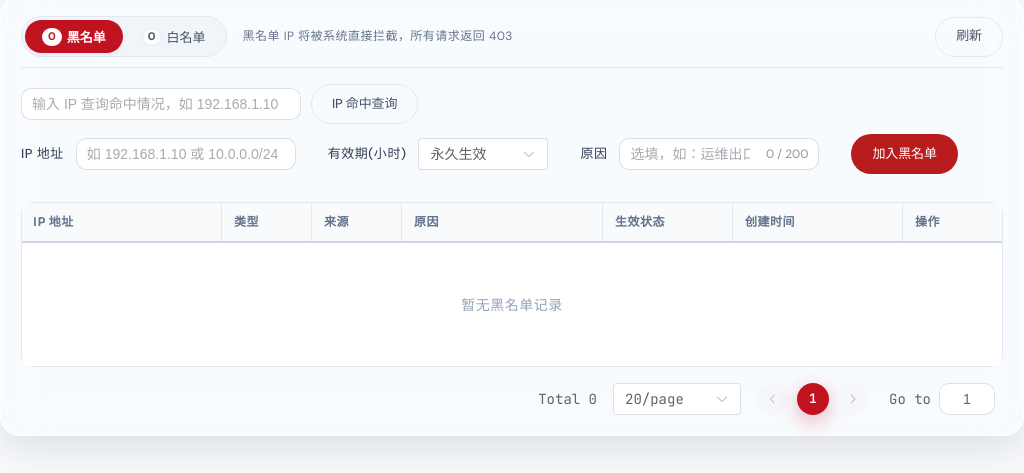
IpListView IP 命中查询 › 合法 IP 查询：参数为输入 IP，命中黑名单时展示判定标签与模式标签
Type "10.0.0.5" into the field with placeholder "输入 IP 查询命中情况，如 192.168.1.10" at (161, 104), box [32,89,290,119]
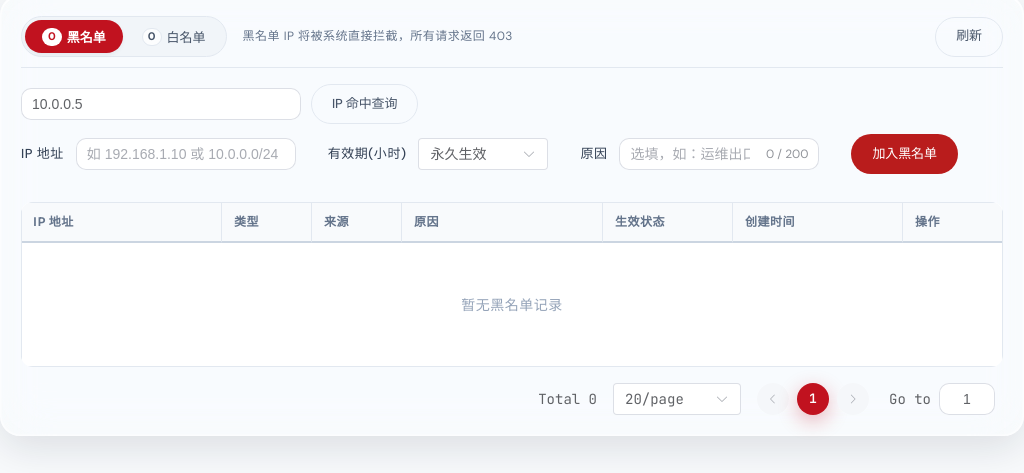
Click the button "IP 命中查询" at (365, 104), box [311,84,418,124]
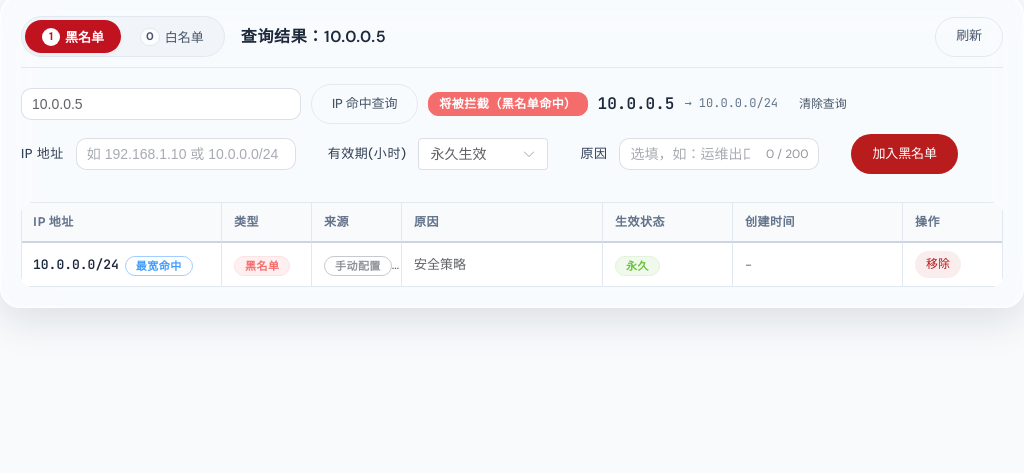
Expected: the element showing "将被拦截（黑名单命中）" is shown, [428,92,588,116]
Expected: the text "查询结果：10.0.0.5" is shown, [241,24,386,49]
Expected: the text "→ 10.0.0.0/24" is shown, [684,94,778,114]
